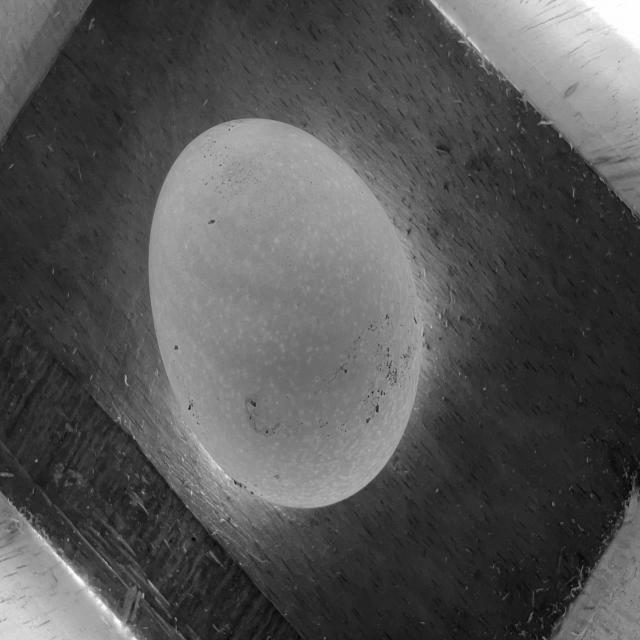telur: (140, 110, 430, 518)
